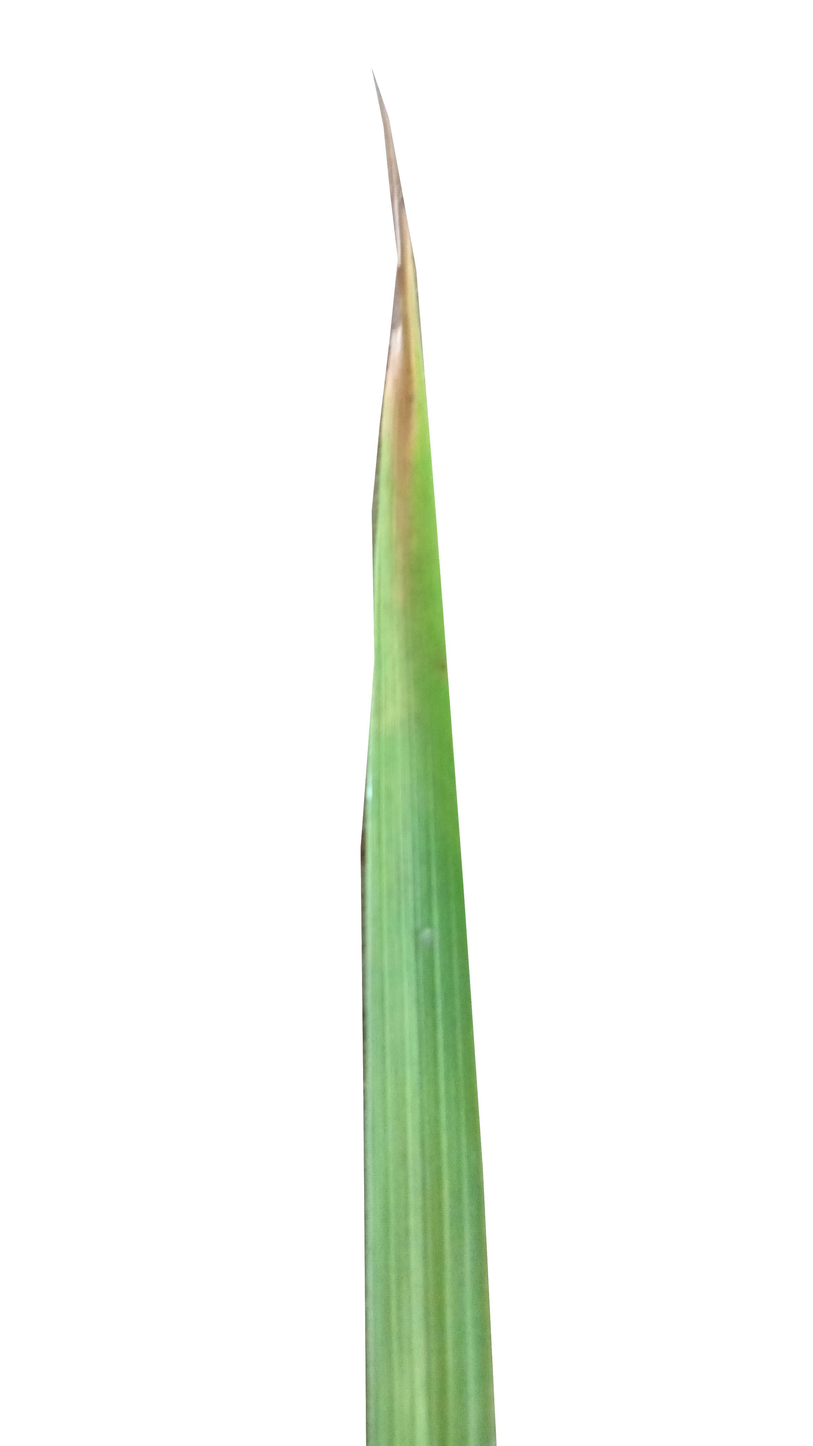Tungro: (368, 156, 459, 810)
